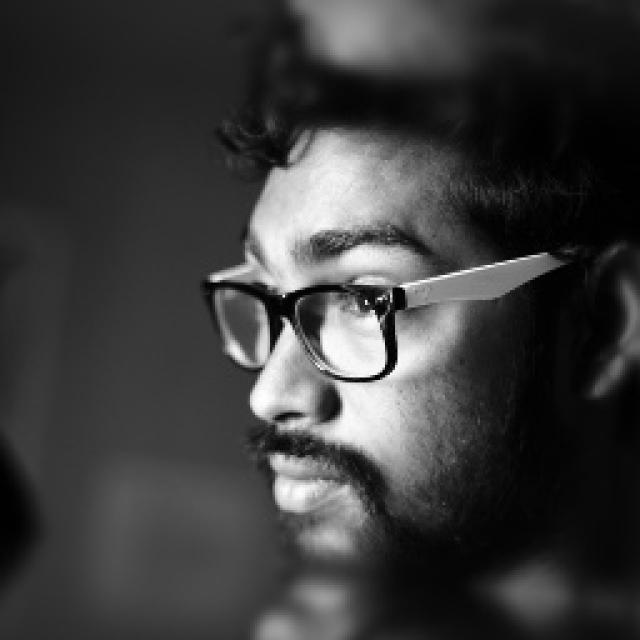glasses: (193, 243, 595, 395)
